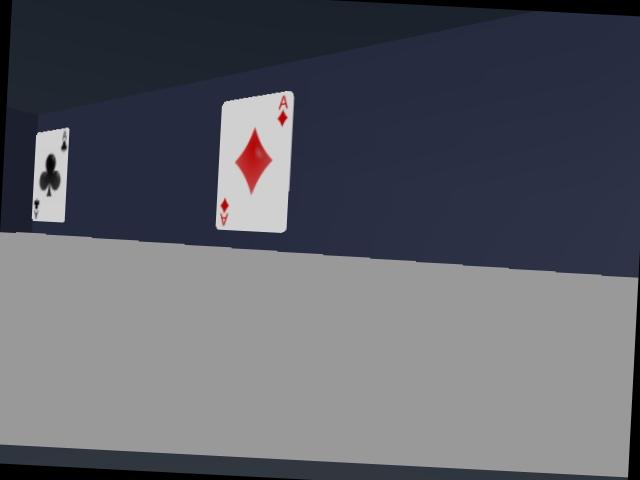club: (31, 128, 68, 221)
diamond: (216, 88, 294, 234)
